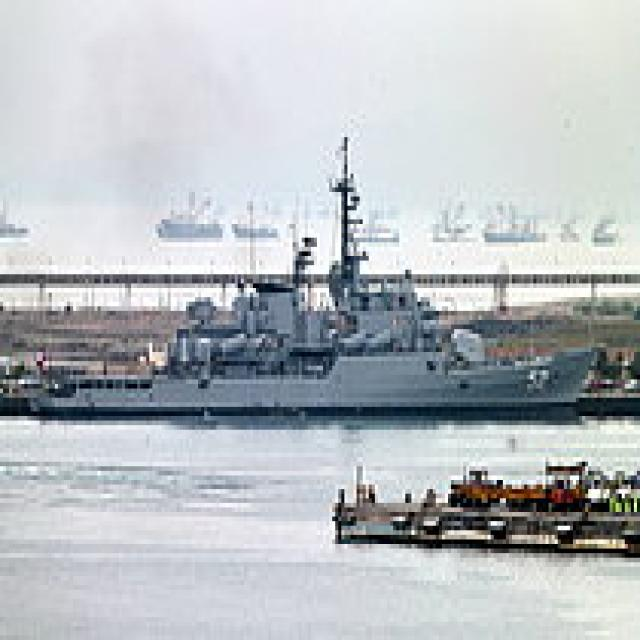Warship: (18, 128, 600, 421)
